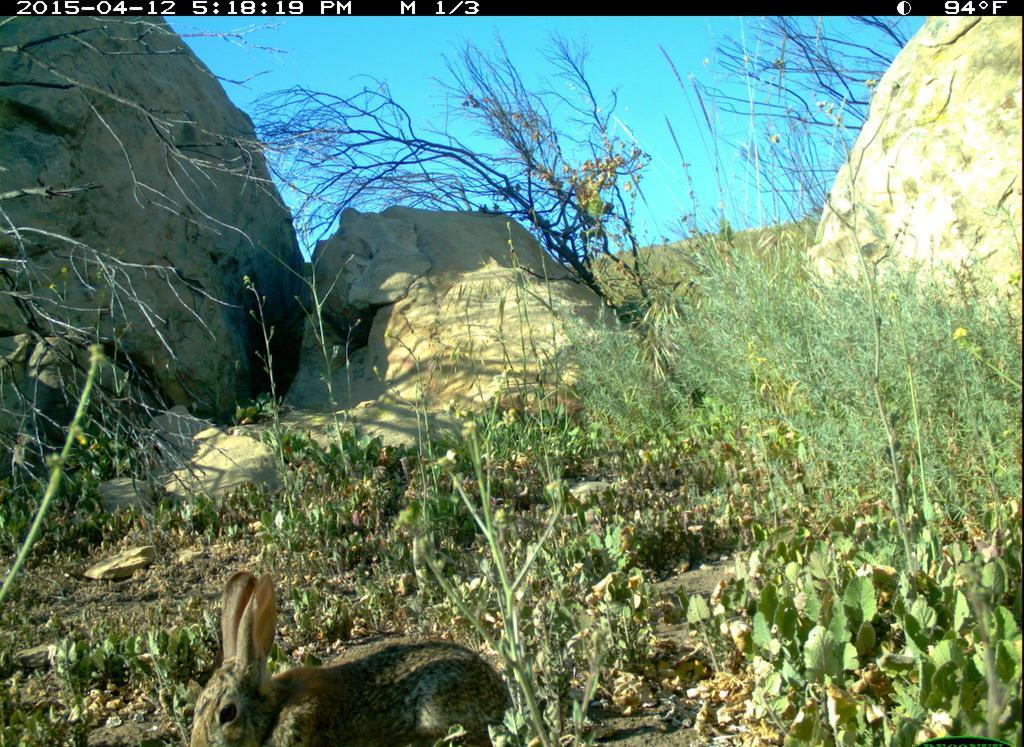rabbit: (178, 569, 520, 744)
